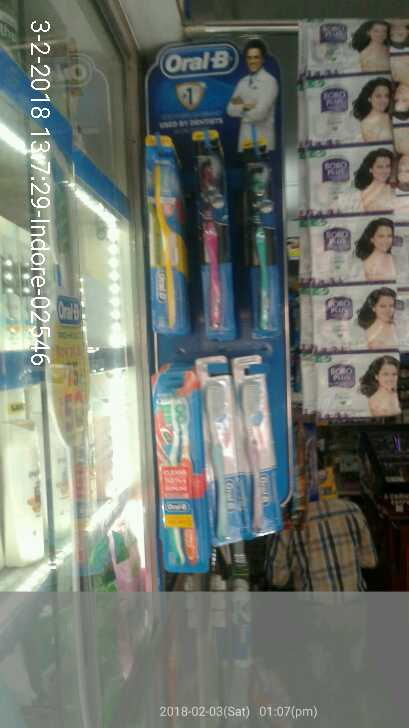oralb: (147, 372, 213, 576), (141, 131, 189, 342), (199, 138, 237, 334), (200, 358, 237, 546), (244, 151, 281, 334), (239, 368, 271, 534)
